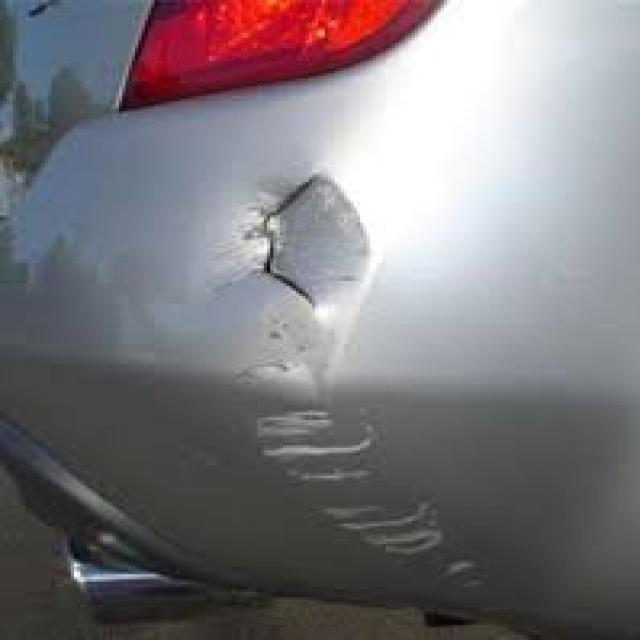Scratch: (232, 164, 515, 574)
